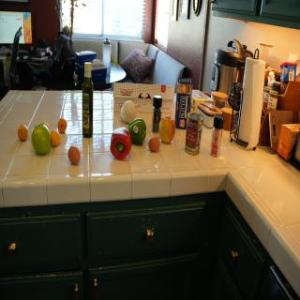bell_pepper: (110, 126, 131, 158), (126, 120, 148, 146)
egg: (68, 146, 82, 168), (149, 138, 162, 152)
onion: (120, 100, 140, 124)
